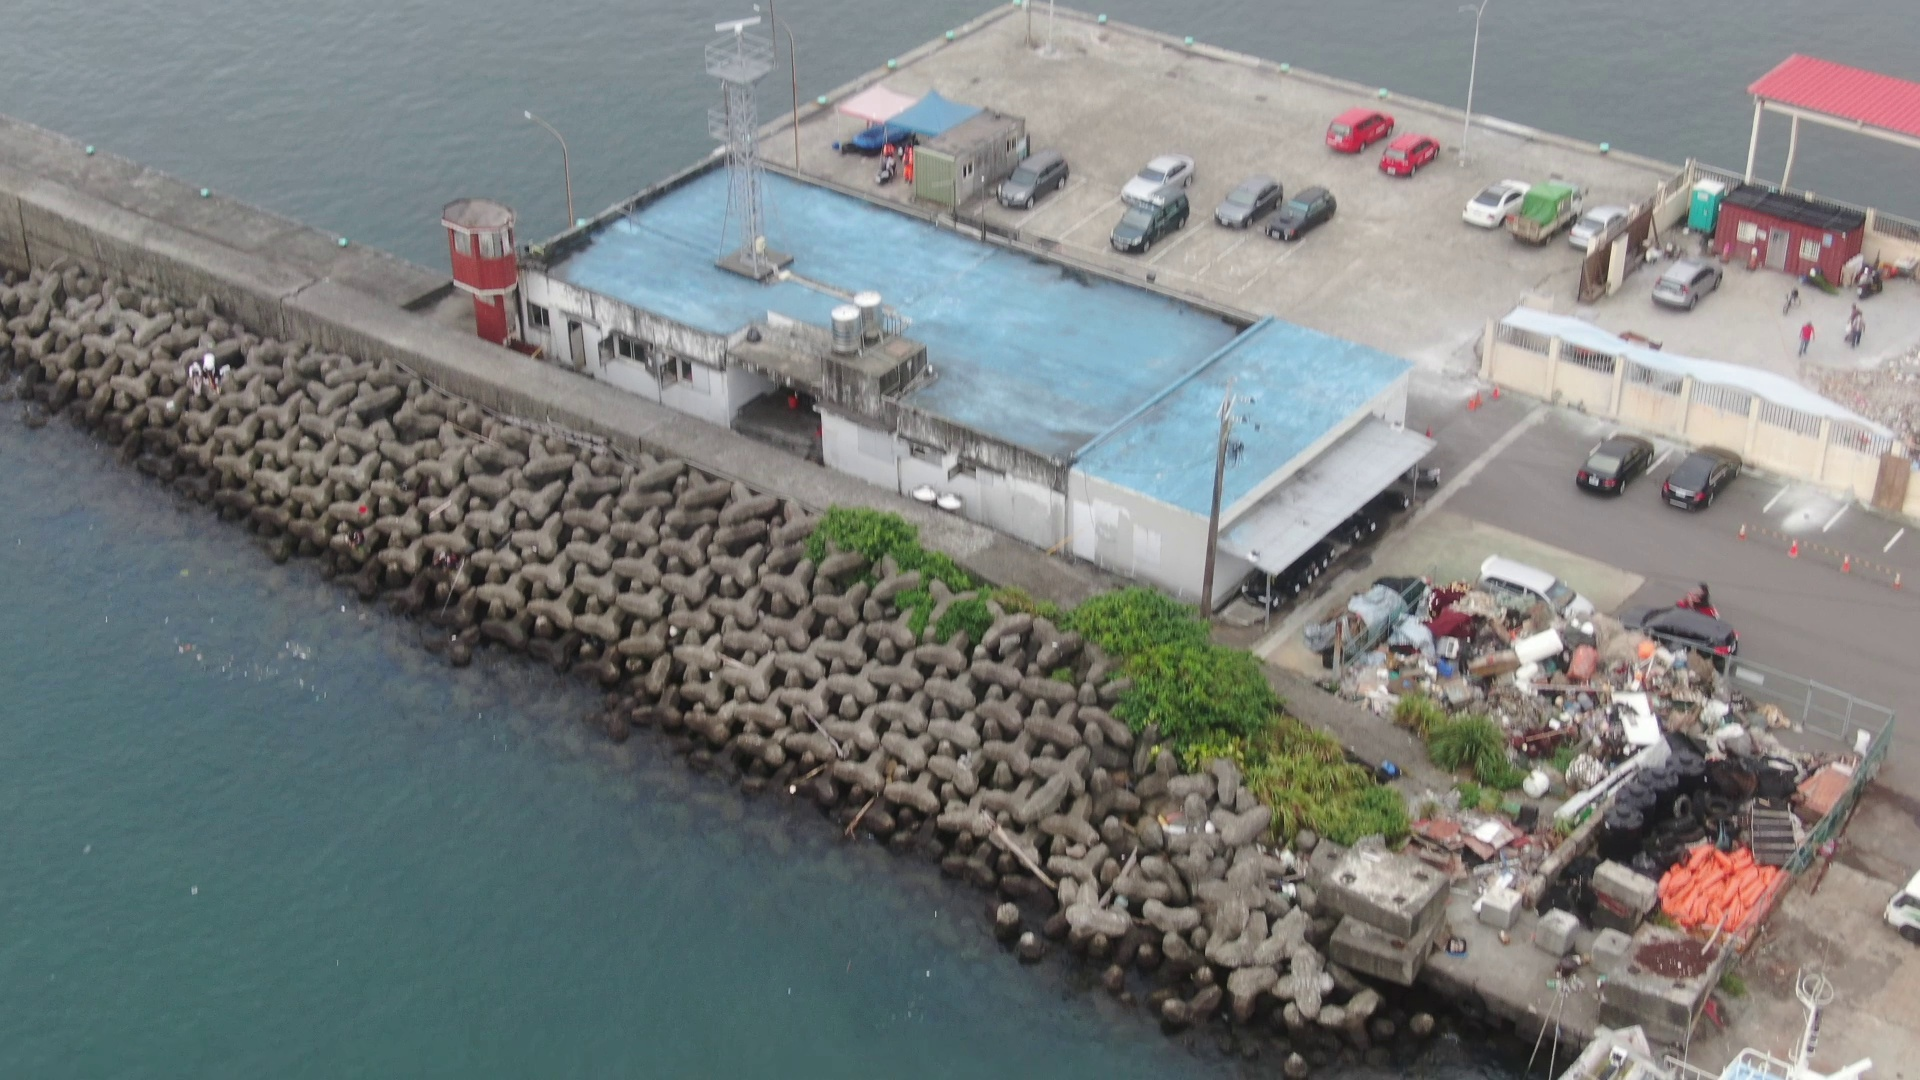garbage: (1367, 588, 1861, 951), (179, 338, 239, 396)
